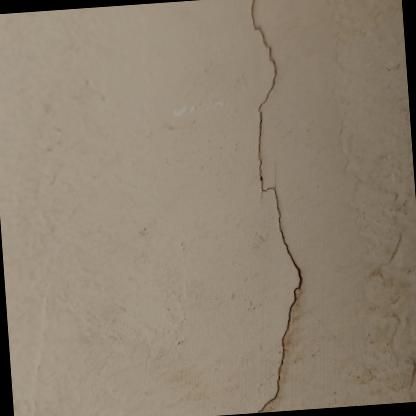crack: (252, 0, 302, 413)
